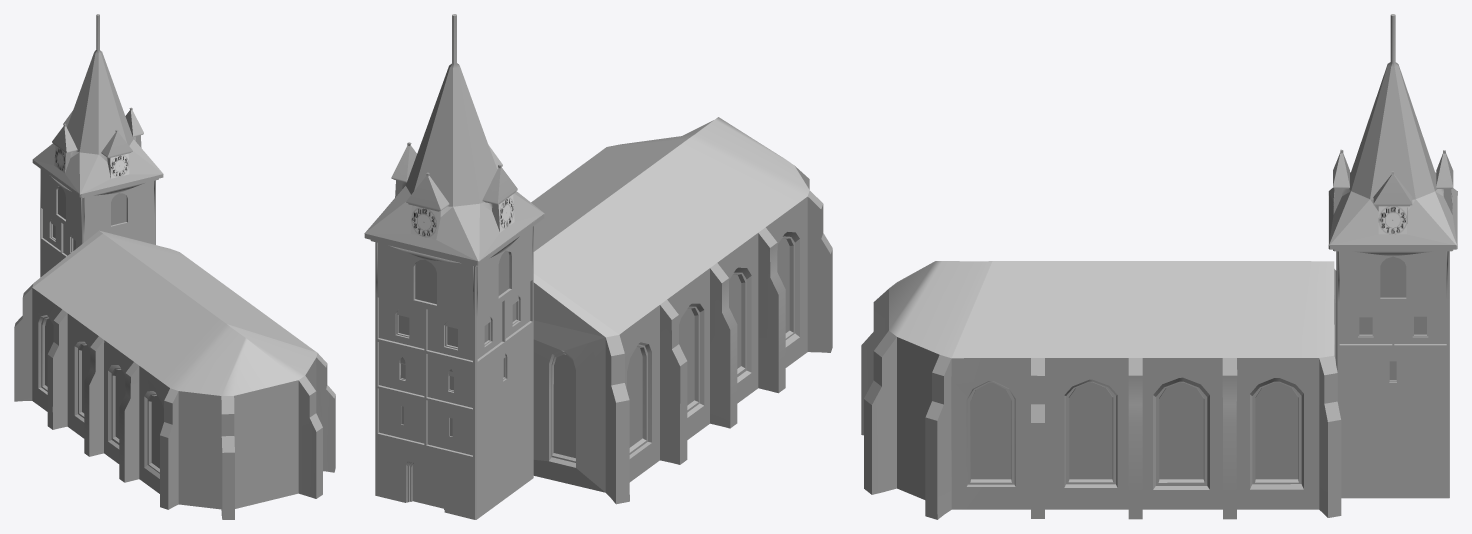
File: Church_V.2.1.fbx
3 renders of one model, left to right at view 1: azimuth 30°, elevation 25°; view 2: azimuth 150°, elevation 25°; view 3: azimuth 270°, elevation 25°, orthographic. The views are drawn at different scales.
Visible parts, largest first — view 1: polySurface19, polySurface2, polySurface36, polySurface29, polySurface31, polySurface33; view 2: polySurface19, polySurface29, polySurface2, polySurface36, polySurface31, polySurface33; view 3: polySurface19, polySurface2, polySurface29, polySurface31, polySurface36, polySurface33.
Boxes of the visible parts, <box> form: polySurface19: <box>14,284,335,519</box>; polySurface2: <box>32,230,317,395</box>; polySurface36: <box>33,14,163,194</box>; polySurface29: <box>32,160,163,277</box>; polySurface31: <box>45,186,163,468</box>; polySurface33: <box>54,145,129,178</box>; polySurface19: <box>533,165,832,504</box>; polySurface29: <box>364,214,544,519</box>; polySurface2: <box>531,117,809,337</box>; polySurface36: <box>364,14,544,261</box>; polySurface31: <box>398,238,789,458</box>; polySurface33: <box>411,194,514,239</box>; polySurface19: <box>861,269,1341,519</box>; polySurface2: <box>889,261,1334,358</box>; polySurface29: <box>1328,191,1457,498</box>; polySurface31: <box>971,256,1426,479</box>; polySurface36: <box>1329,14,1457,245</box>; polySurface33: <box>1333,188,1452,234</box>.
Bounding box in the file's own units: 24.39 × 45.62 × 53.43.
